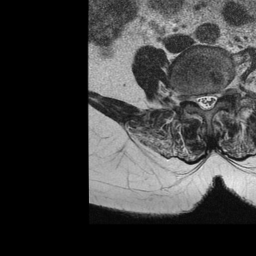CCS_normal: (203, 84, 210, 119)
LFS_normal: (217, 80, 225, 105)
LLS_normal: (210, 84, 217, 112)
RFS_normal: (187, 85, 195, 108)
RLS_normal: (195, 86, 203, 114)
